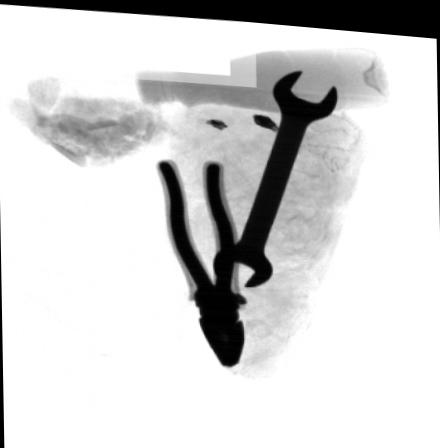Pliers: (151, 155, 248, 363)
Wrench: (214, 65, 336, 282)
